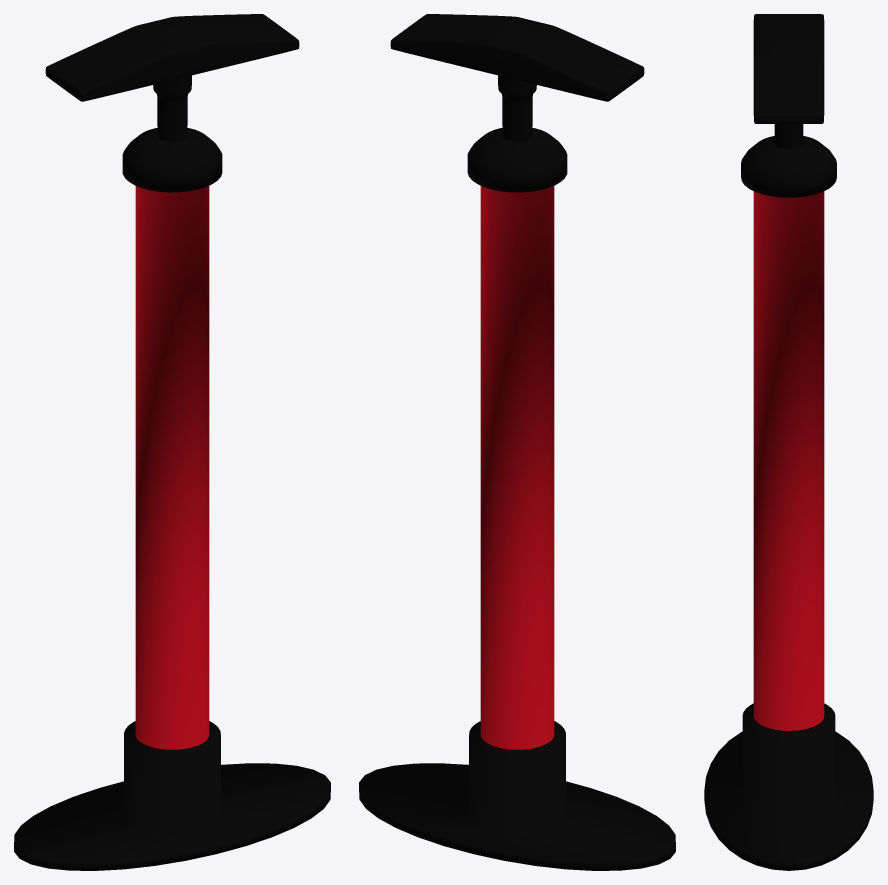
Rendered from Airpump.fbx.
3 views of the same model, side by side, from view 1: azimuth 30°, elevation 25°; view 2: azimuth 150°, elevation 25°; view 3: azimuth 270°, elevation 25° (orthographic). The views are drawn at different scales.
Visible parts, largest first — view 1: Cylinder.011, Cube.018; view 2: Cylinder.011, Cube.018; view 3: Cylinder.011, Cube.018.
Boxes of the visible parts, left/top/right/bottom form: Cylinder.011: left=14, top=128, right=330, bottom=870; Cube.018: left=45, top=14, right=299, bottom=141; Cylinder.011: left=359, top=127, right=675, bottom=870; Cube.018: left=390, top=14, right=644, bottom=141; Cylinder.011: left=704, top=136, right=873, bottom=870; Cube.018: left=753, top=14, right=824, bottom=149.
Size of the model in its own units: 0.5635 by 1.39 by 0.283.
